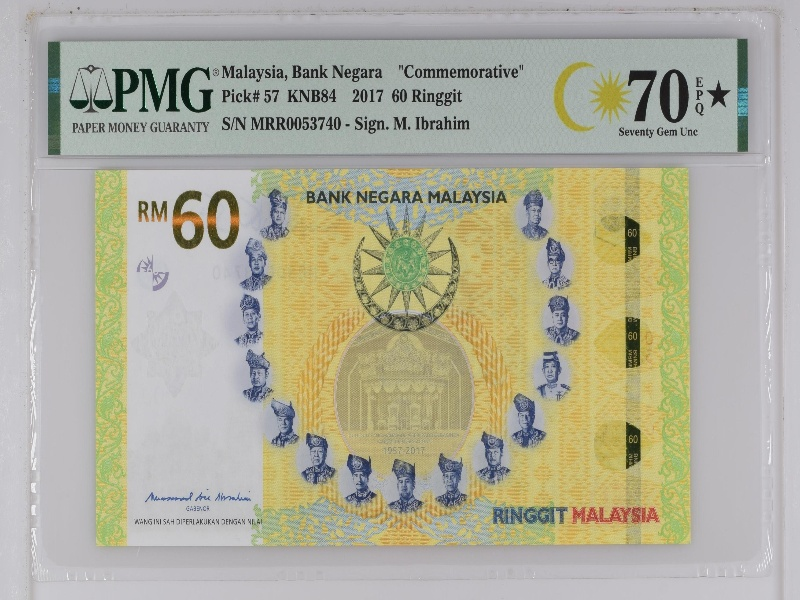papernote: (94, 166, 694, 546)
